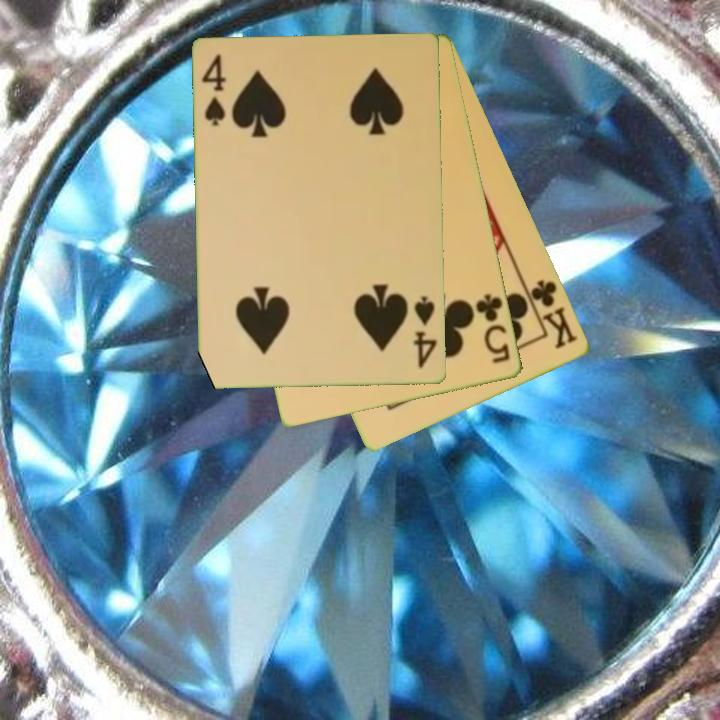4s: (199, 51, 229, 130), (410, 293, 440, 371)
5c: (472, 290, 514, 367)
Kc: (521, 276, 582, 353)
